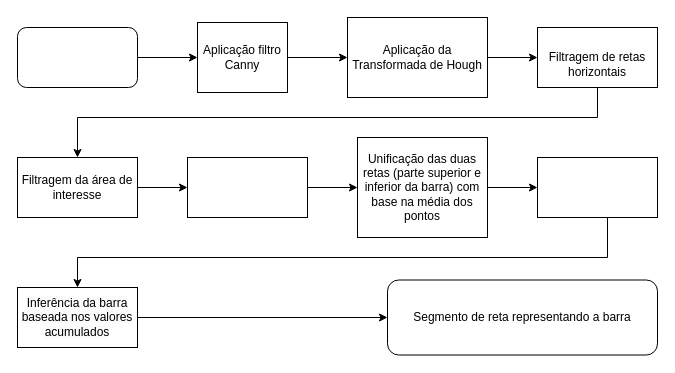
This 675x373 diagram has some shape labels left out. Here are the shapes that lost their labels. From the top down, the centre of each, then its label:
point (77, 57): Frame
point (247, 187): Filtragem das duas barras com maior quantidade de votos
point (597, 187): Cálculo da barra baseado na média dos pontos
